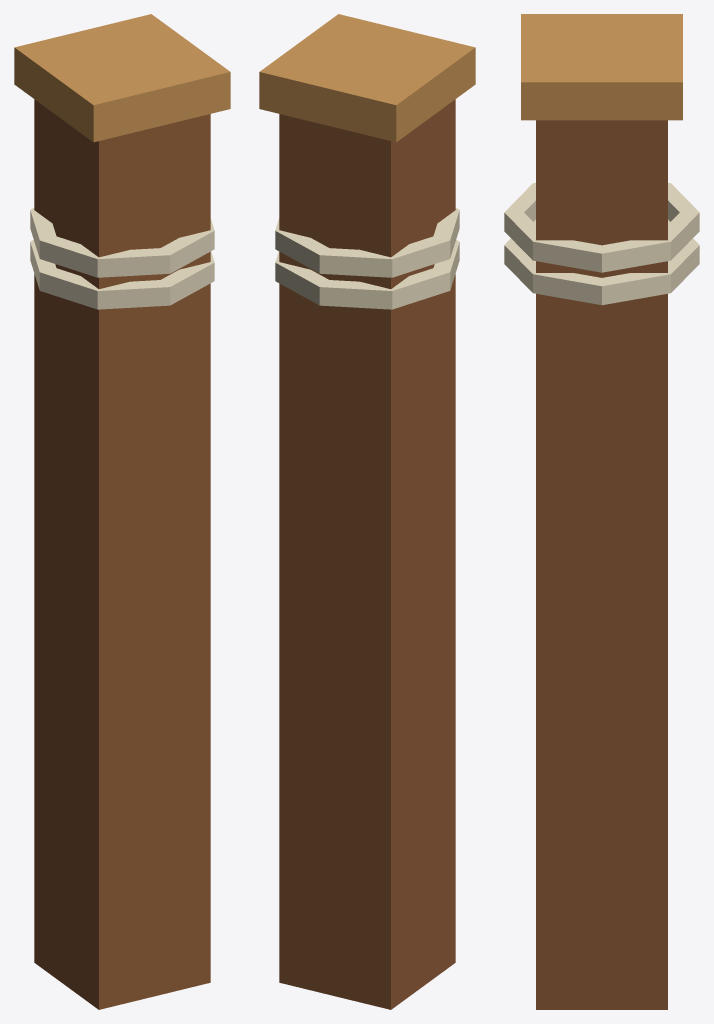
File: fishing_deck__fishing_pile_2.glb
3 renders of one model, left to right at view 1: azimuth 30°, elevation 25°; view 2: azimuth 150°, elevation 25°; view 3: azimuth 270°, elevation 25°, orthographic. The views are drawn at different scales.
Visible parts, largest first — view 1: fishing_pile_2__wood.001, fishing_pile_2__wood3.001, fishing_pile_2__cream.001; view 2: fishing_pile_2__wood.001, fishing_pile_2__wood3.001, fishing_pile_2__cream.001; view 3: fishing_pile_2__wood.001, fishing_pile_2__wood3.001, fishing_pile_2__cream.001.
Part boxes in pixels (<box>): fishing_pile_2__wood.001: <box>34,99,210,1009</box>; fishing_pile_2__wood3.001: <box>14,14,230,142</box>; fishing_pile_2__cream.001: <box>30,208,214,309</box>; fishing_pile_2__wood.001: <box>279,99,455,1009</box>; fishing_pile_2__wood3.001: <box>259,14,475,142</box>; fishing_pile_2__cream.001: <box>275,208,459,309</box>; fishing_pile_2__wood.001: <box>536,120,667,1009</box>; fishing_pile_2__wood3.001: <box>521,14,682,120</box>; fishing_pile_2__cream.001: <box>504,182,699,305</box>.
Bounding box in the file's own units: 0.326 × 1.72 × 0.326.
